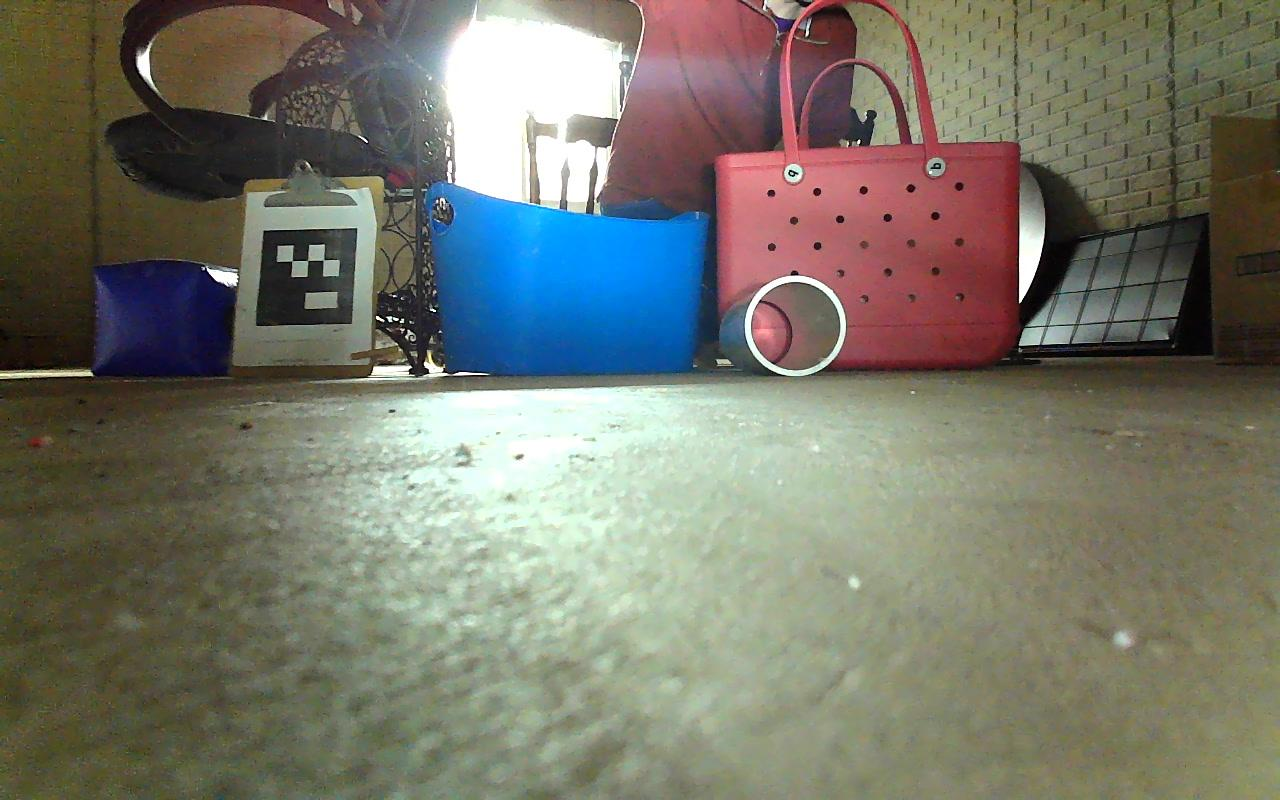coral: (733, 274, 846, 375)
